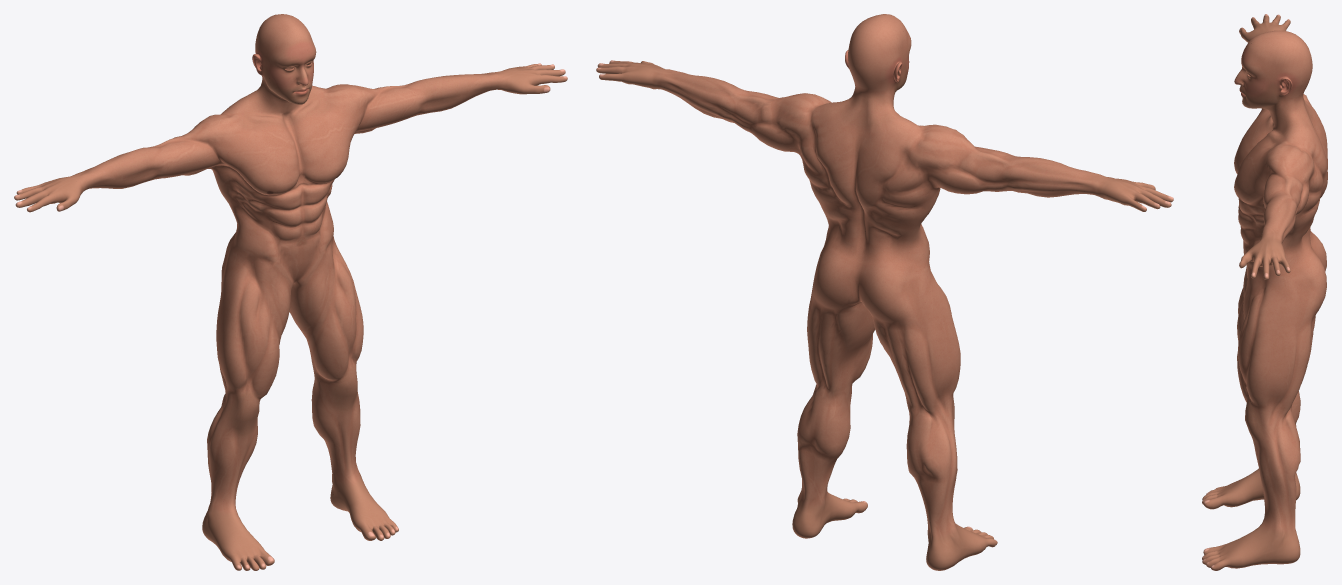
Rendered from male-body-builder-v1.glb.
3 renders of one model, left to right at view 1: azimuth 30°, elevation 25°; view 2: azimuth 150°, elevation 25°; view 3: azimuth 270°, elevation 25°, orthographic. The views are drawn at different scales.
Parts seen in each view (by area): view 1: body_low; view 2: body_low; view 3: body_low.
Boxes of the visible parts, box(x1,y1,x2,y2) form: body_low: box(14, 14, 567, 570); body_low: box(596, 14, 1173, 570); body_low: box(1202, 14, 1327, 570).
Bounding box in the file's own units: 9.97 × 8.86 × 2.02.
3 materials, 2 textured.
